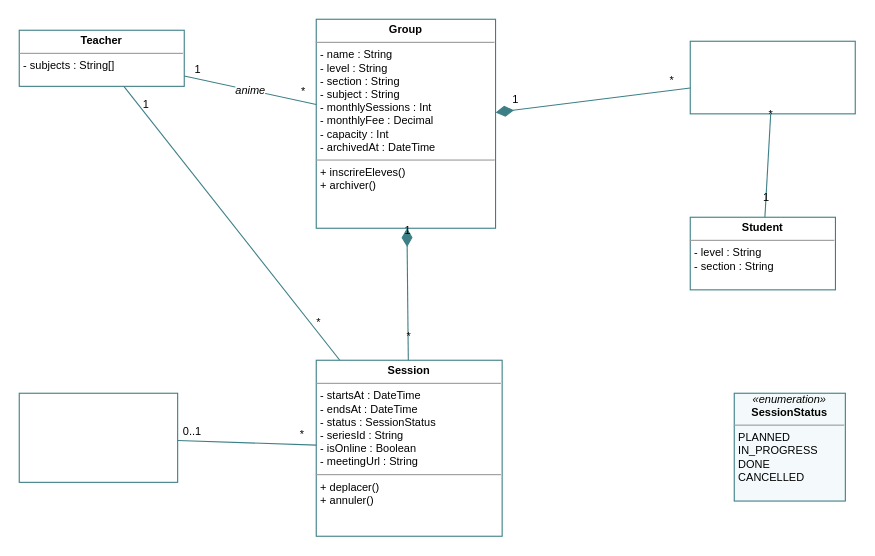
This 875x556 diagram has some shape labels left out. Each missing label, with the centre of its shape:
GroupStudent - joinedAt : DateTime - leftAt : DateTime: [772,77]
Room - name : String - capacity : Int - isActive : Boolean: [98,437]
